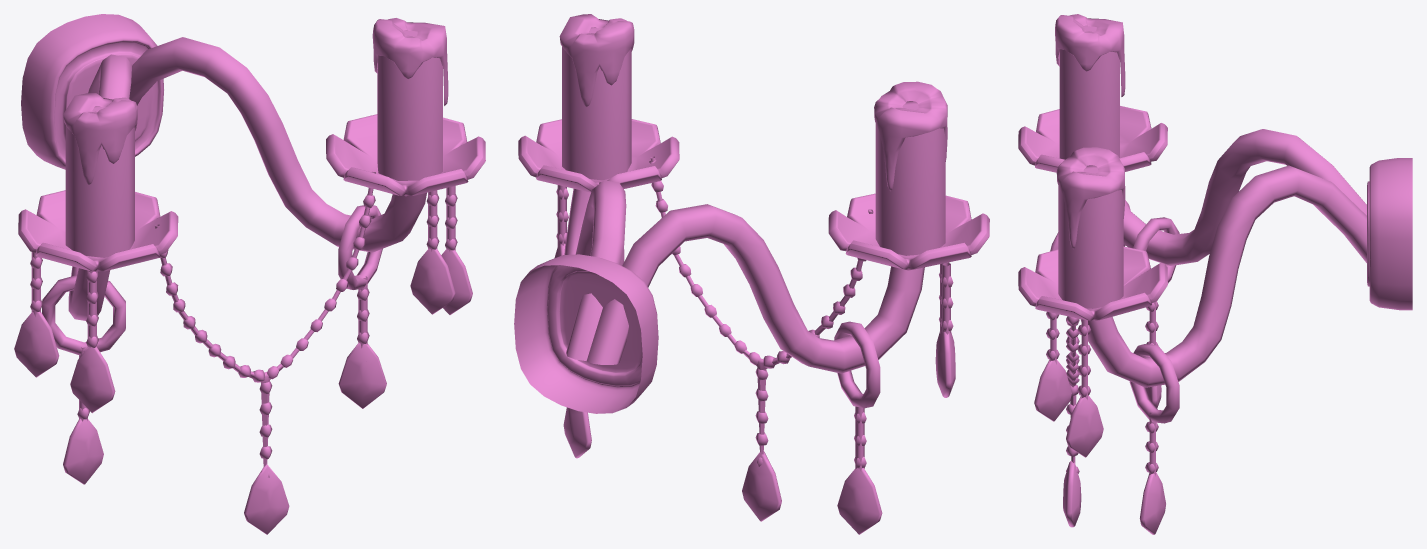
File: ENV_HAU_LAMP_MODEL.fbx
3 views of the same model, side by side, from view 1: azimuth 30°, elevation 25°; view 2: azimuth 150°, elevation 25°; view 3: azimuth 270°, elevation 25° (orthographic). The views are drawn at different scales.
Visible parts, largest first — view 1: ENV_HAU_LAMP_MODEL; view 2: ENV_HAU_LAMP_MODEL; view 3: ENV_HAU_LAMP_MODEL.
Boxes of the visible parts, x1,y1,x2,y2 form: ENV_HAU_LAMP_MODEL: (14,14,485,534); ENV_HAU_LAMP_MODEL: (514,14,989,534); ENV_HAU_LAMP_MODEL: (1018,14,1412,534).
Size of the model in its own units: 51.31 by 51.33 by 41.96.
